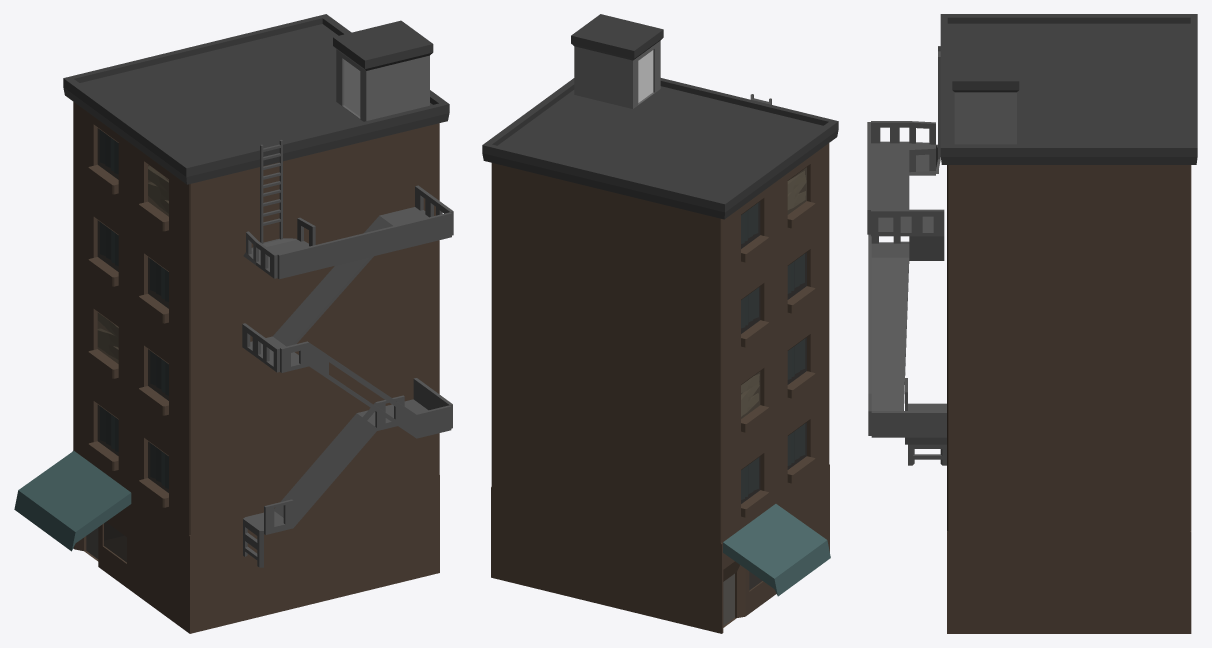
Rendered from Proto-OldApt.fbx.
3 views of the same model, side by side, from view 1: azimuth 30°, elevation 25°; view 2: azimuth 150°, elevation 25°; view 3: azimuth 270°, elevation 25° (orthographic). The views are drawn at different scales.
Visible parts, largest first — view 1: OldApt; view 2: OldApt; view 3: OldApt.
Part boxes in pixels (x1,y1,x2,y2): OldApt: [14, 14, 453, 633]; OldApt: [482, 14, 838, 633]; OldApt: [867, 14, 1197, 633].
Size of the model in its own units: 7.74 by 12.35 by 6.71.
